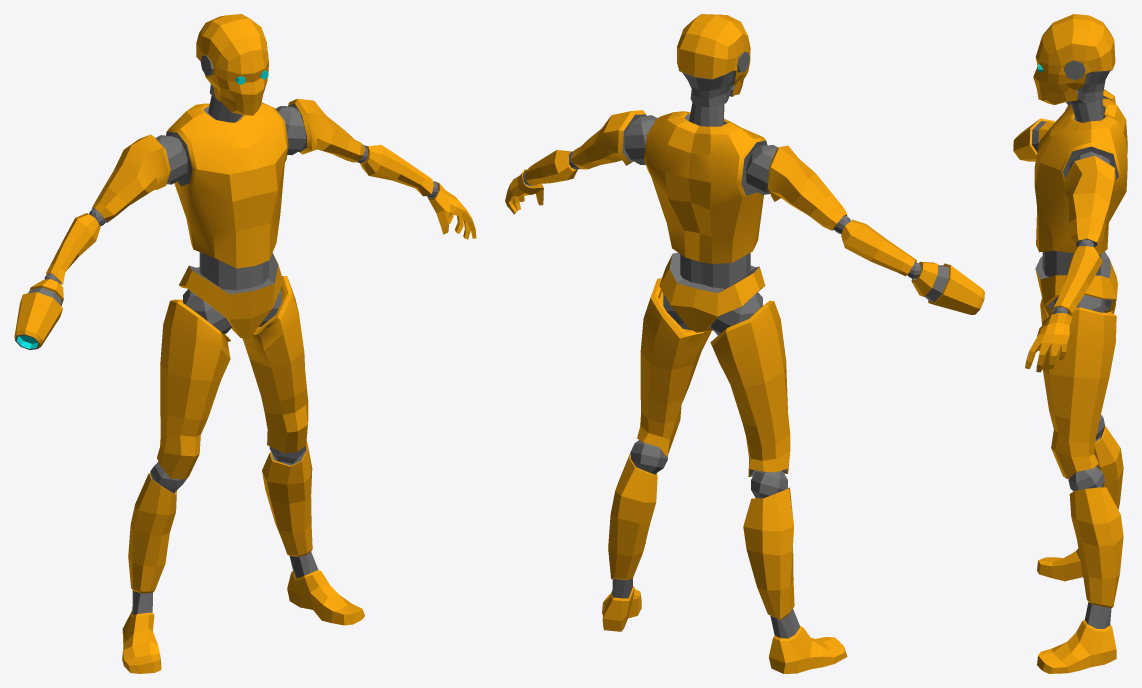
The model's file is Robot.glb.
3 views of the same model, side by side, from view 1: azimuth 30°, elevation 25°; view 2: azimuth 150°, elevation 25°; view 3: azimuth 270°, elevation 25° (orthographic). The views are drawn at different scales.
Parts seen in each view (by area): view 1: Base1:Male:Base1:Male:polySurface80; view 2: Base1:Male:Base1:Male:polySurface80; view 3: Base1:Male:Base1:Male:polySurface80.
Boxes of the visible parts, box(x1,y1,x2,y2) form: Base1:Male:Base1:Male:polySurface80: box(14, 14, 476, 673); Base1:Male:Base1:Male:polySurface80: box(505, 14, 984, 673); Base1:Male:Base1:Male:polySurface80: box(1013, 14, 1127, 673).
Bounding box in the file's own units: 1.04 × 1.34 × 0.2305.
